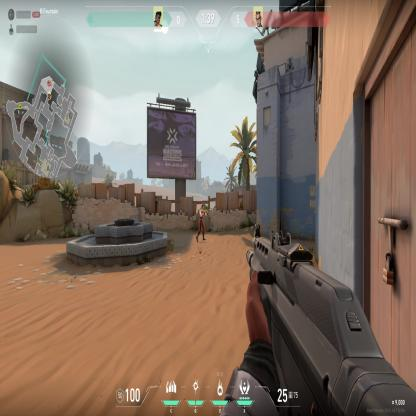enemy: (196, 203, 206, 243)
